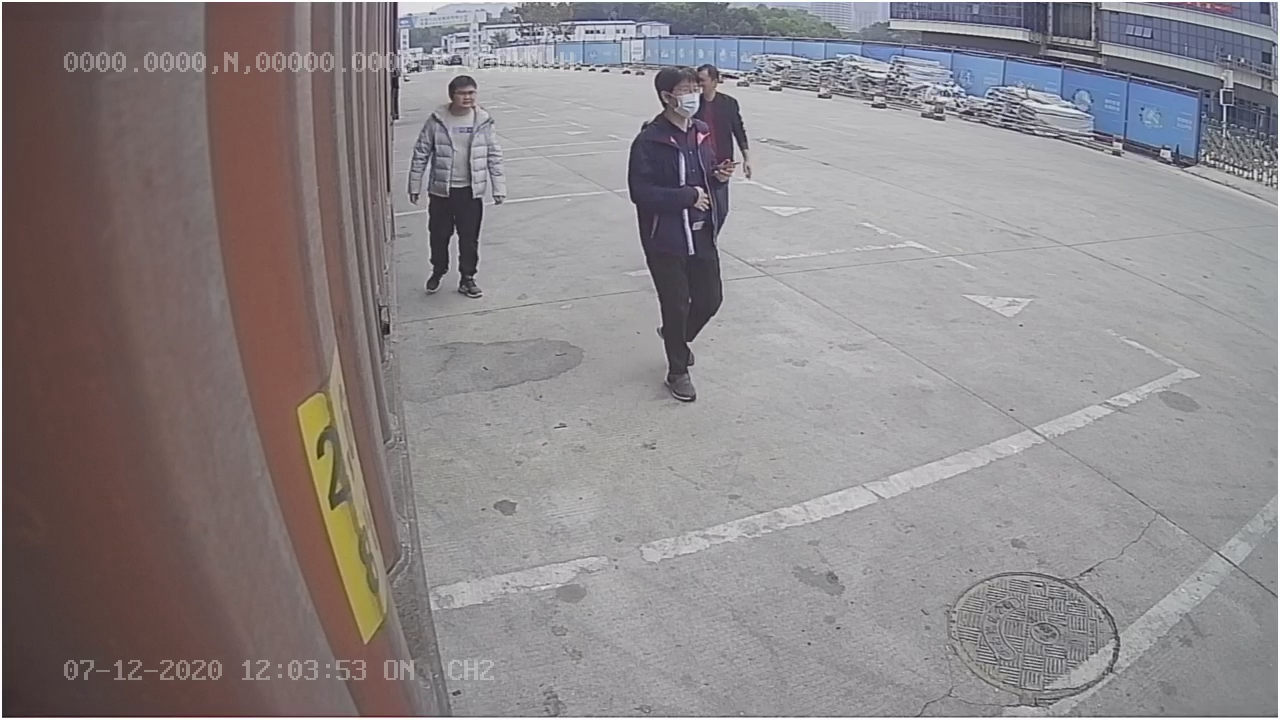person: (406, 72, 507, 302)
